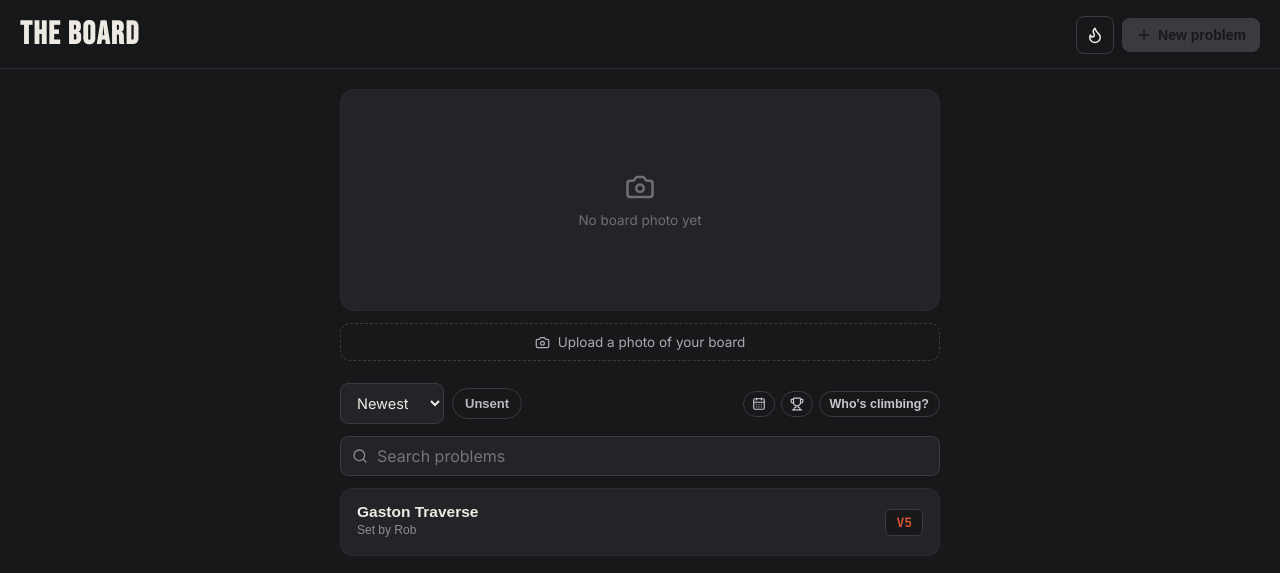
App (delete flow) › cancels the delete confirmation without deleting
The image size is (1280, 573).
Click the text "Gaston Traverse" at (418, 512), box [357,503,478,521]
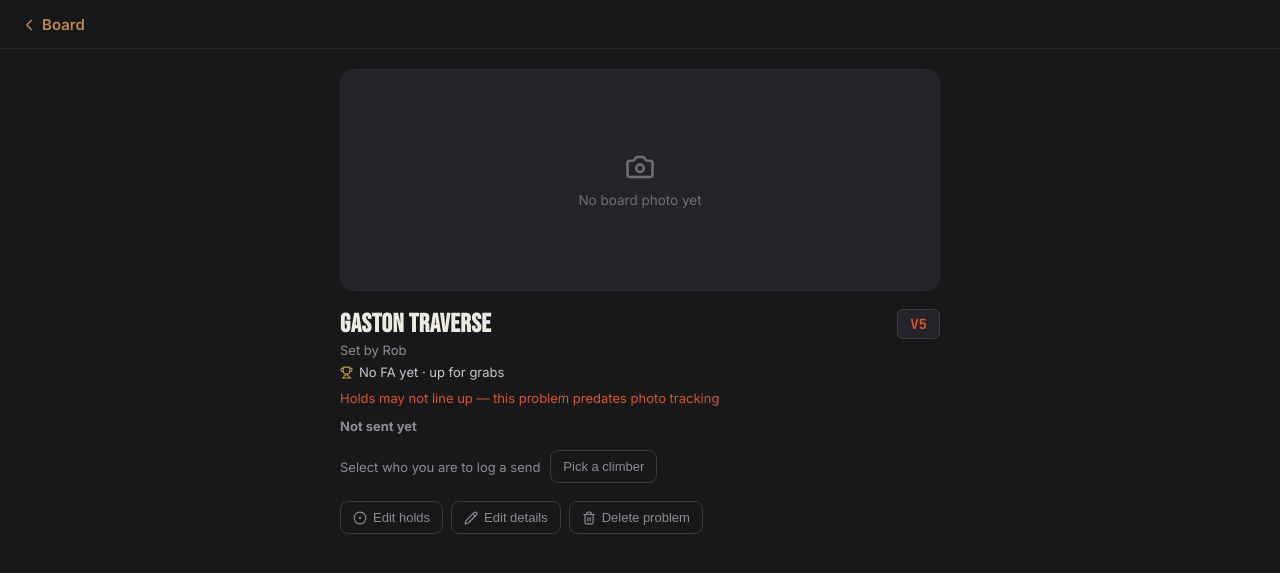
Click the button "Delete problem" at (636, 518), box [569,501,703,534]
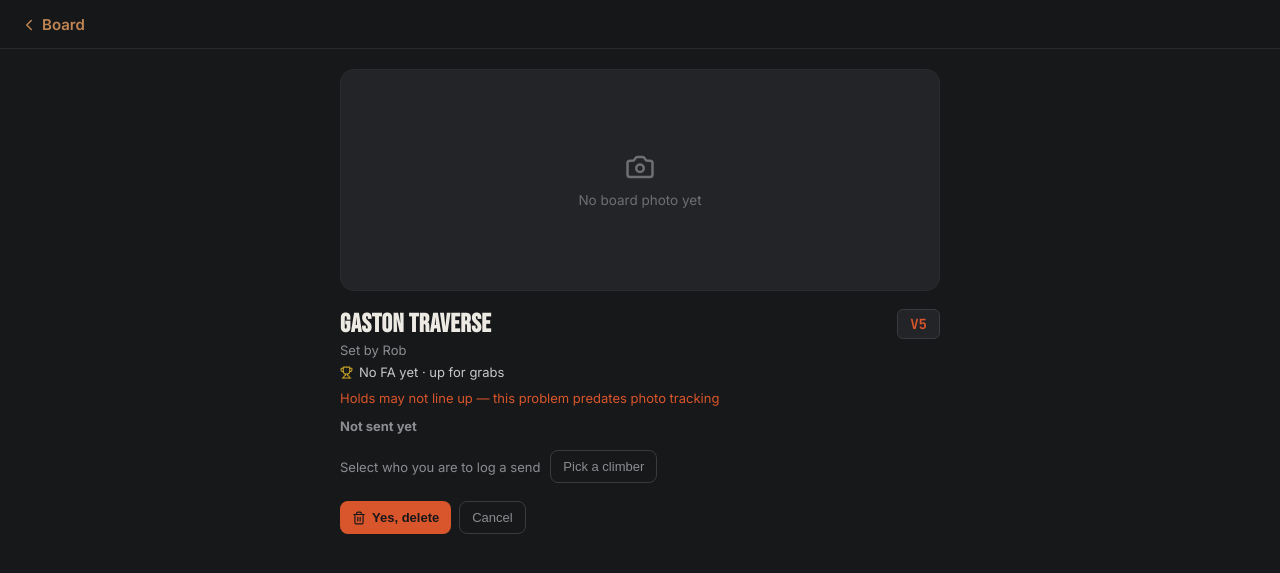
Click the button "Cancel" at (492, 518), box [459,501,526,534]
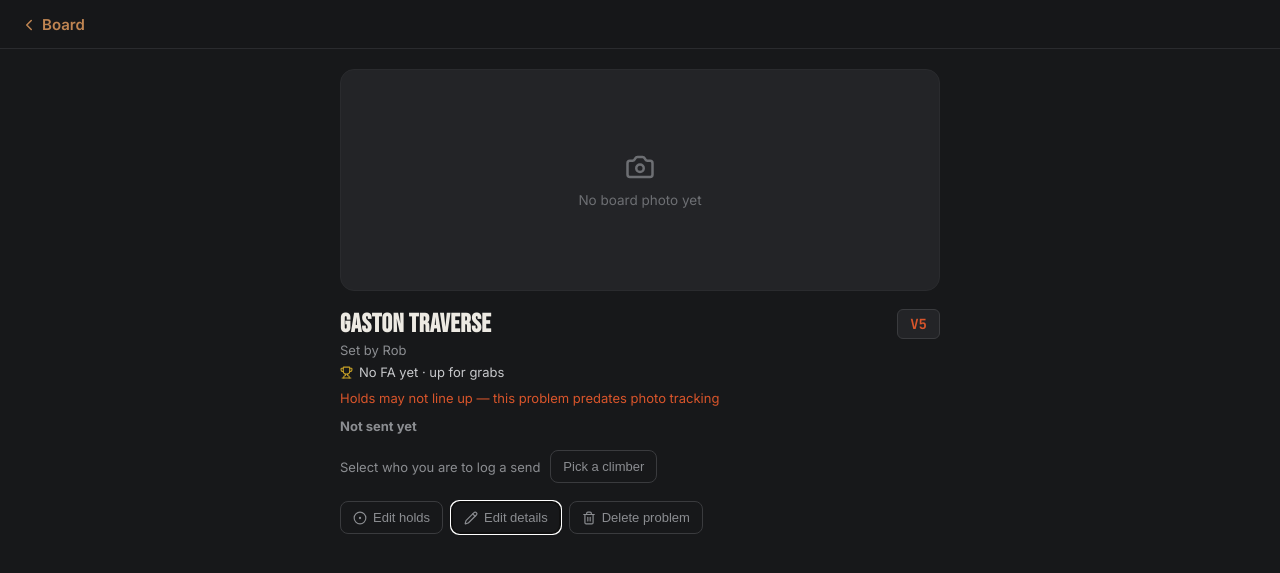
Now the button "Delete problem" is shown, box [569,501,703,534]
